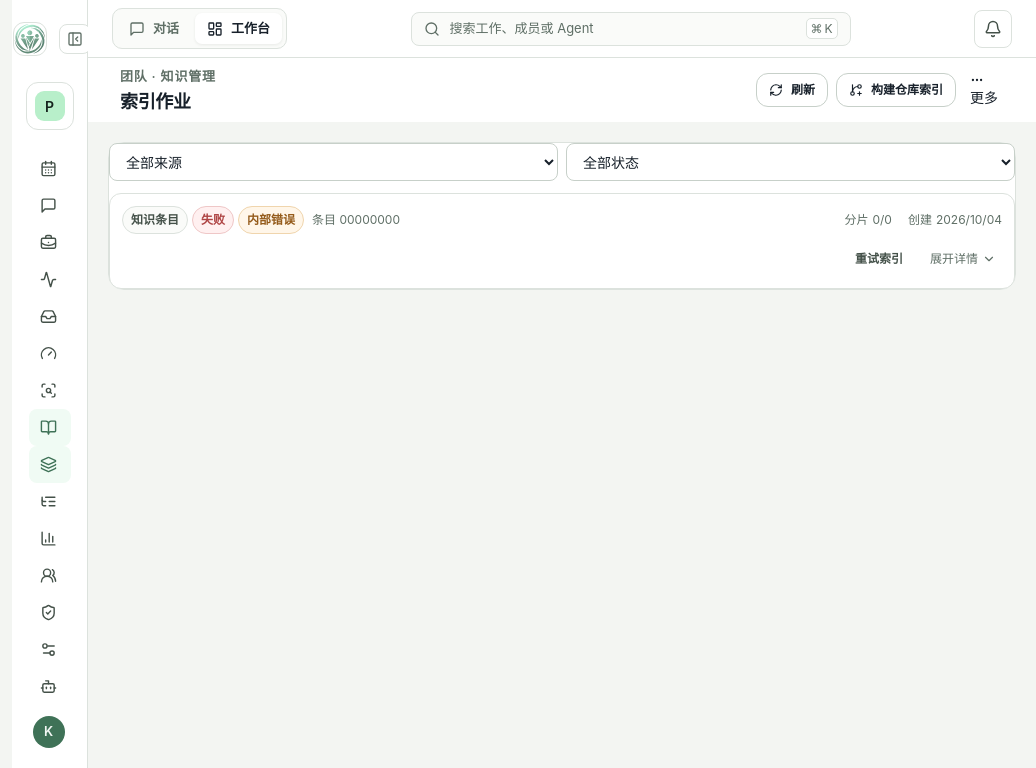
Test: KnowledgeIndexPage › retries a failed knowledge-entry job per entry through the A04 command (R17)
Click the button "重试索引".
click(879, 259)  # box [842,242,916,276]
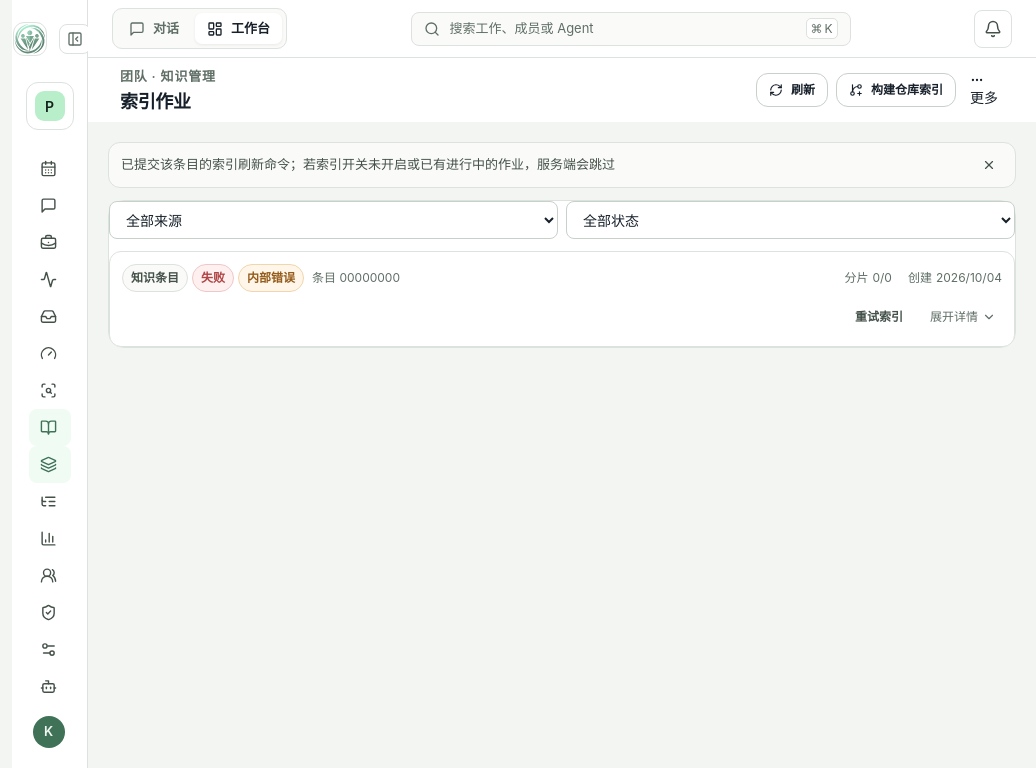
Now the text "已提交该条目的索引刷新命令" is shown, box [121,156,615,172]
